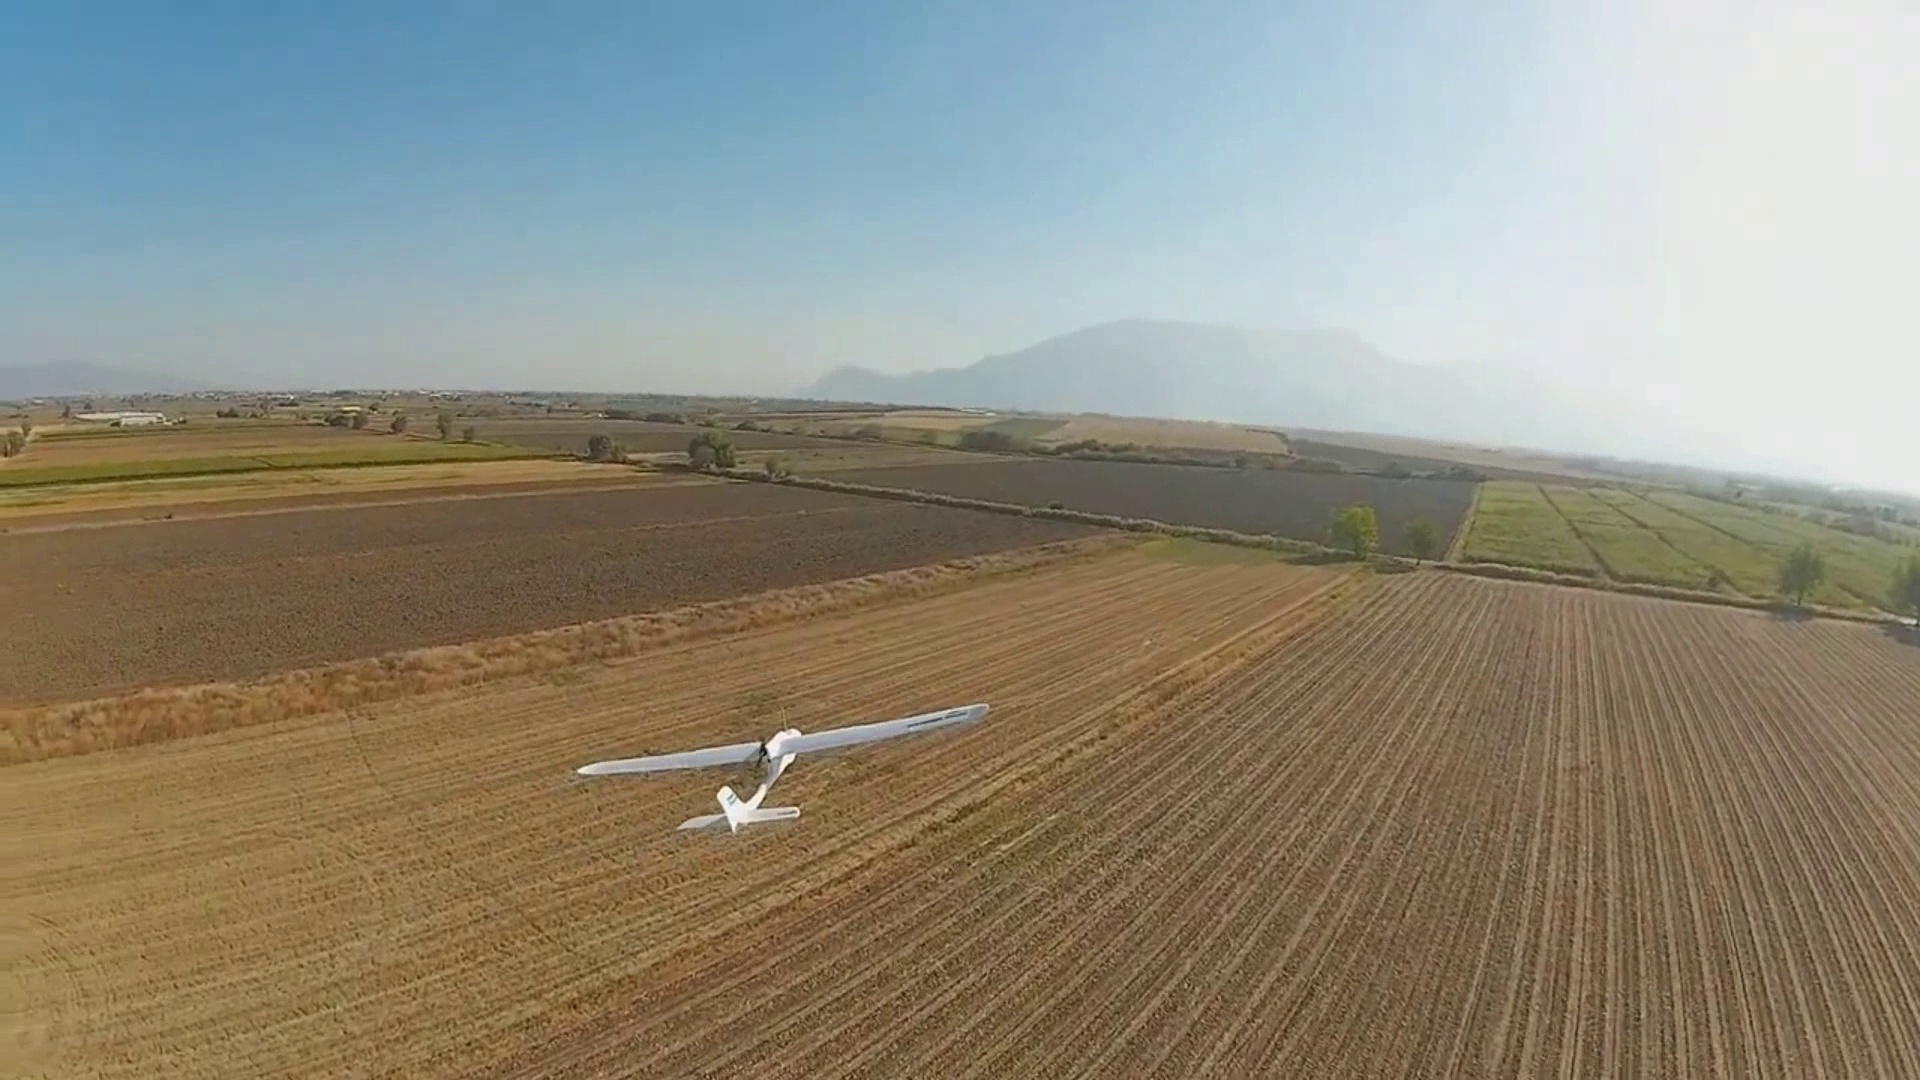airplane: (574, 702, 986, 829)
